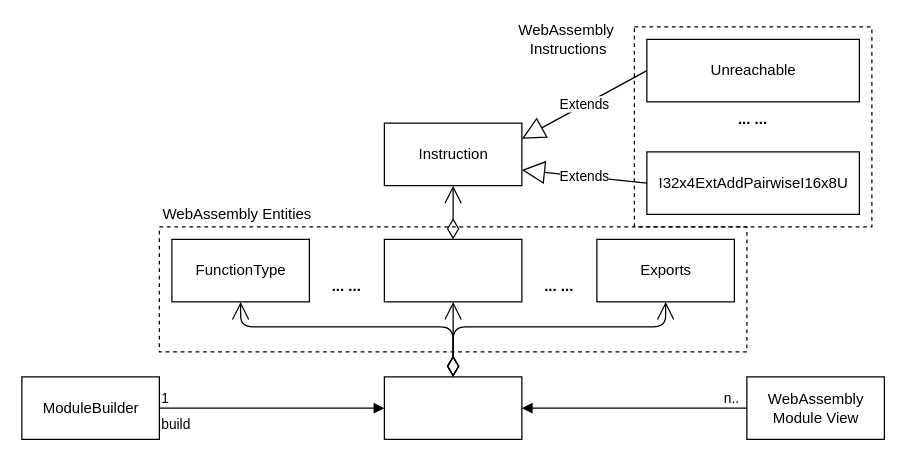
Image size: 906x461. Some labels were removed from this diagram. The shapes that lost their labels are listed below. From the top down, each one's centre as x and y in pixels, then its label:
At [452,270]: "Function".
At [452,407]: "WebAssembly Module".
